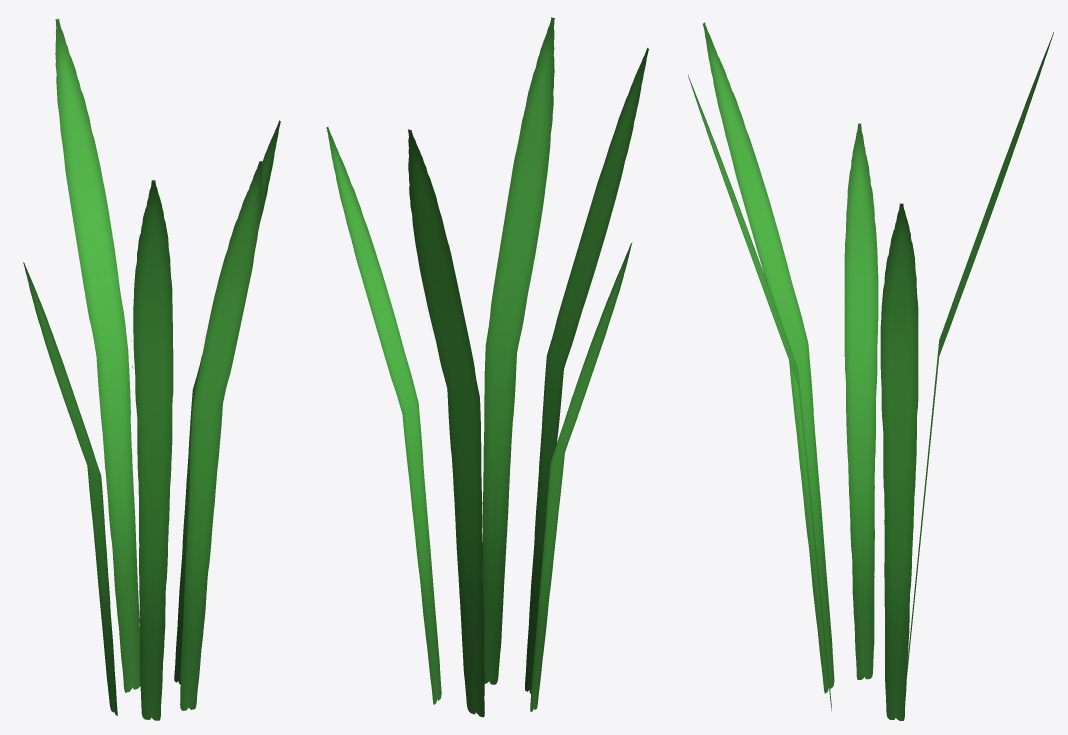
The model's file is Grass_group_big_01.fbx.
3 views of the same model, side by side, from view 1: azimuth 30°, elevation 25°; view 2: azimuth 150°, elevation 25°; view 3: azimuth 270°, elevation 25° (orthographic). The views are drawn at different scales.
Parts seen in each view (by area): view 1: Grass Green Group Big; view 2: Grass Green Group Big; view 3: Grass Green Group Big.
Part boxes in pixels (<box>): Grass Green Group Big: <box>23,19,280,720</box>; Grass Green Group Big: <box>326,17,648,717</box>; Grass Green Group Big: <box>688,22,1053,720</box>.
Bounding box in the file's own units: 143 × 133 × 287.
